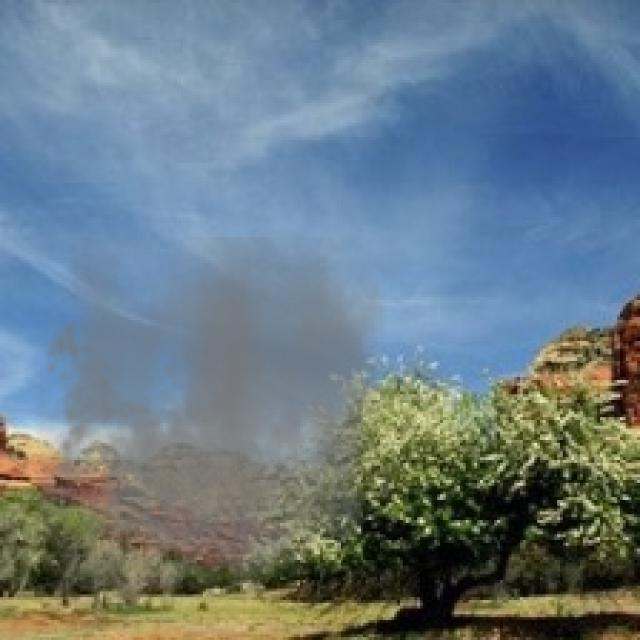smoke: (34, 237, 386, 603)
